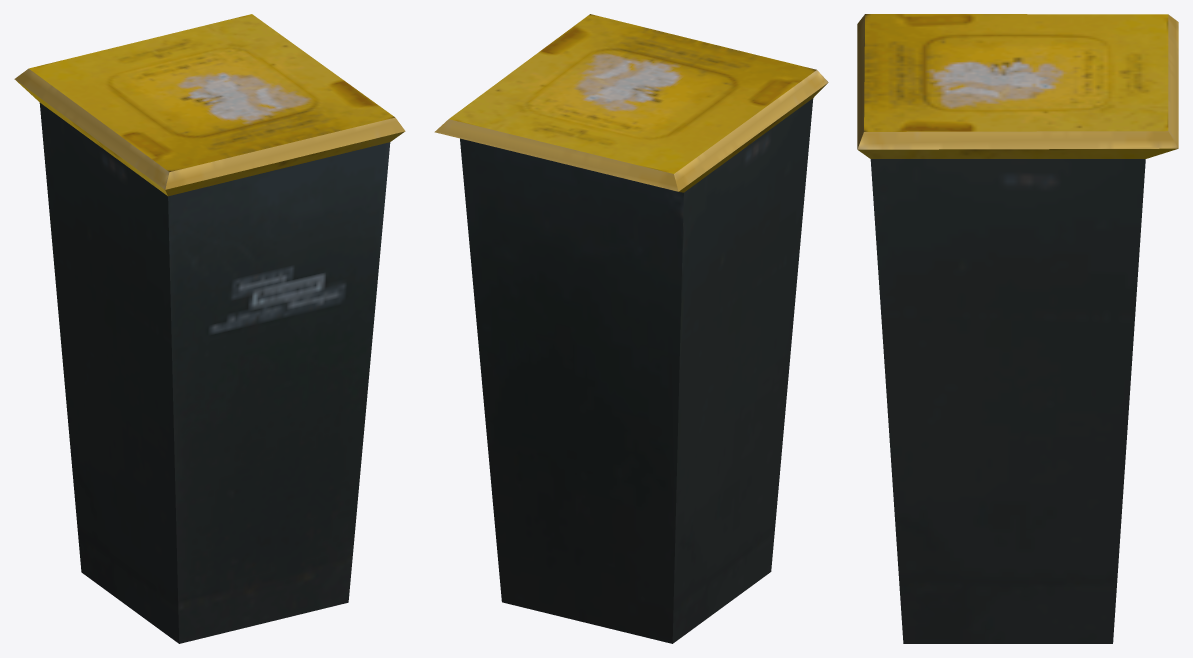
File: RubbishBin.fbx
The picture shows the model from 3 angles, left to right: view 1: azimuth 30°, elevation 25°; view 2: azimuth 150°, elevation 25°; view 3: azimuth 270°, elevation 25°; orthographic projection. The views are drawn at different scales.
Parts seen in each view (by area): view 1: RubbishBin; view 2: RubbishBin; view 3: RubbishBin.
Boxes of the visible parts, bbox=[...] form: RubbishBin: bbox=[14, 14, 405, 643]; RubbishBin: bbox=[434, 14, 828, 643]; RubbishBin: bbox=[857, 14, 1178, 643].
Bounding box in the file's own units: 0.6552 × 1.27 × 0.7018.
